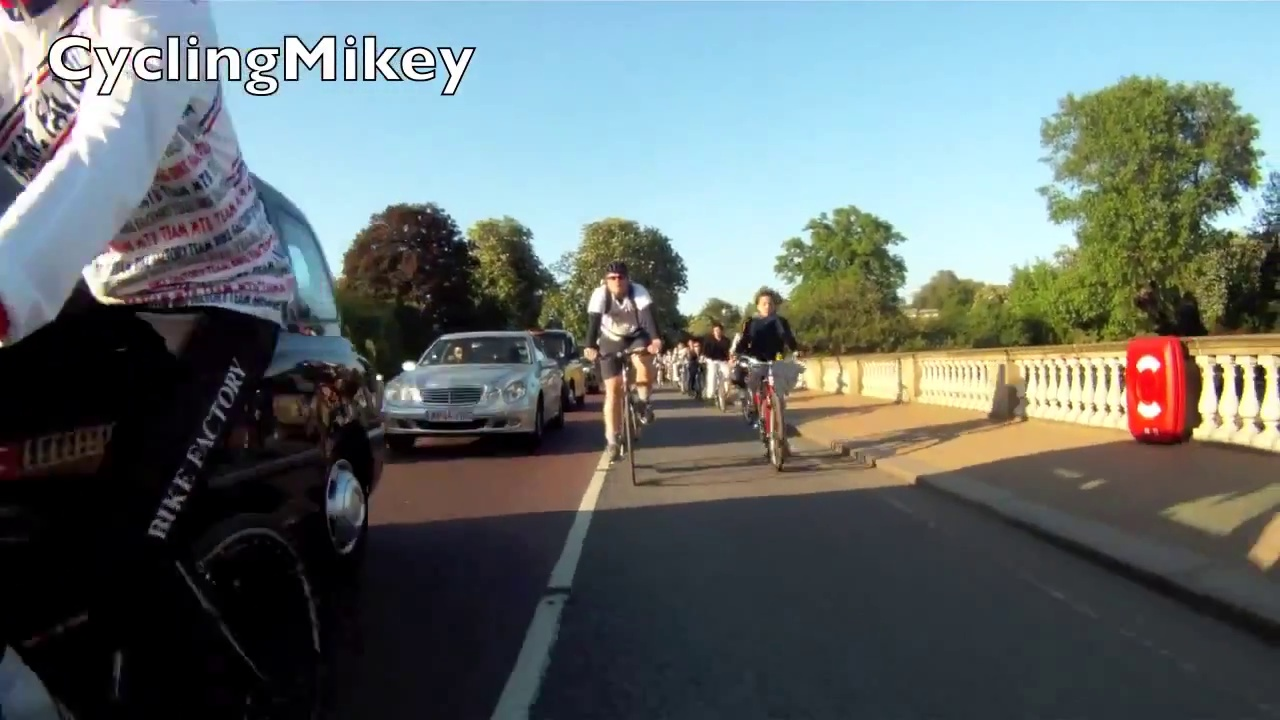cyclist_front: (580, 252, 668, 501), (737, 289, 798, 481), (702, 317, 736, 412)
